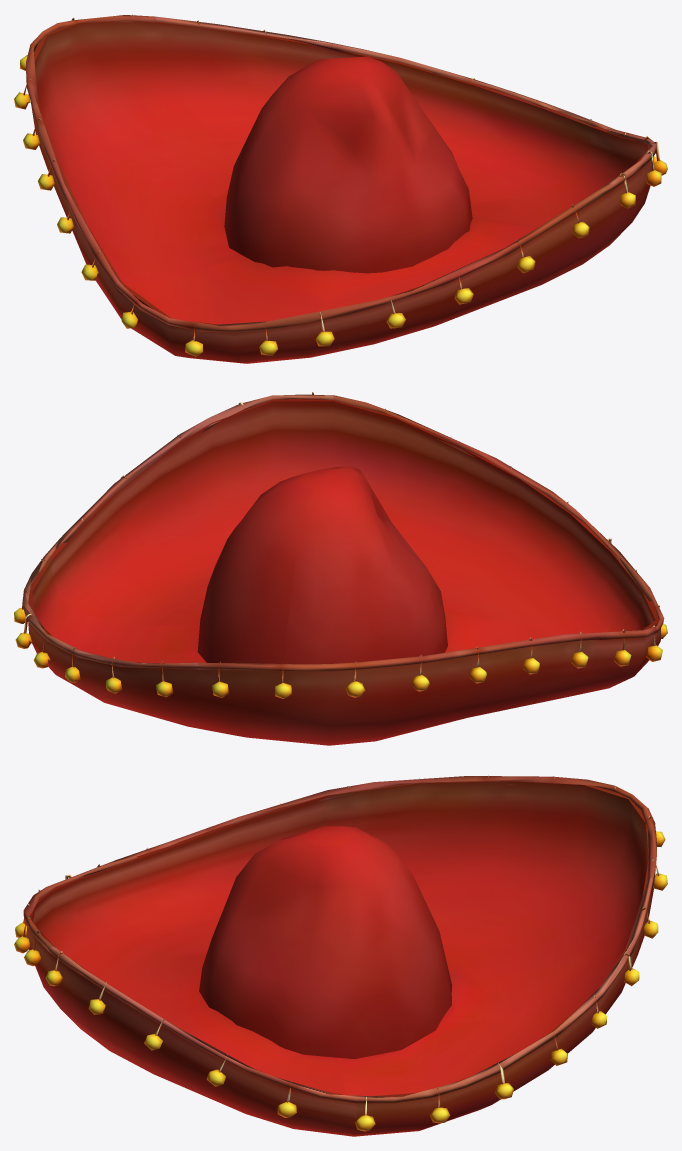
The model's file is Mexican_Hat.glb.
The picture shows the model from 3 angles, top to bottom: view 1: azimuth 30°, elevation 25°; view 2: azimuth 150°, elevation 25°; view 3: azimuth 270°, elevation 25°; orthographic projection.
Parts seen in each view (by area): view 1: Mexican_Hat; view 2: Mexican_Hat; view 3: Mexican_Hat.
Part boxes in pixels (<box>): Mexican_Hat: <box>14,14,667,363</box>; Mexican_Hat: <box>14,392,667,745</box>; Mexican_Hat: <box>14,774,667,1136</box>.
Size of the model in its own units: 1.08 by 0.3527 by 1.08.
1 material, 1 textured.
